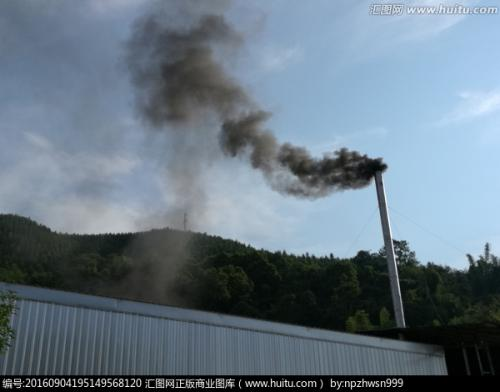smoke: (231, 117, 383, 197)
